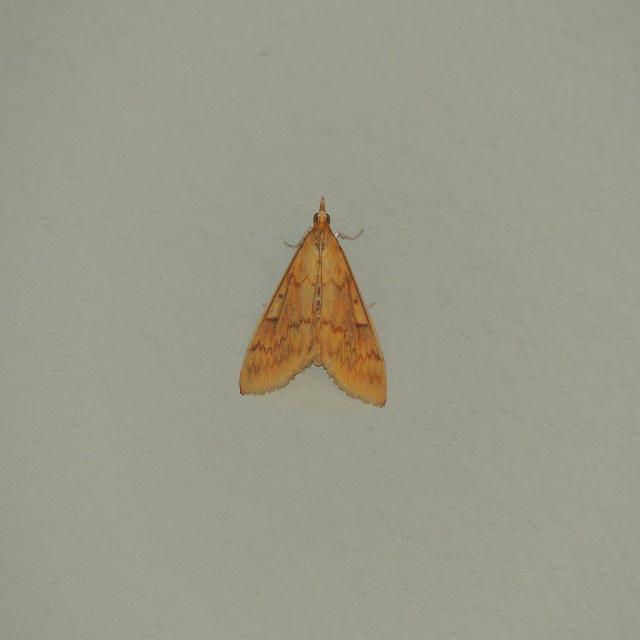cornborer-Adult-: (222, 181, 414, 416)
